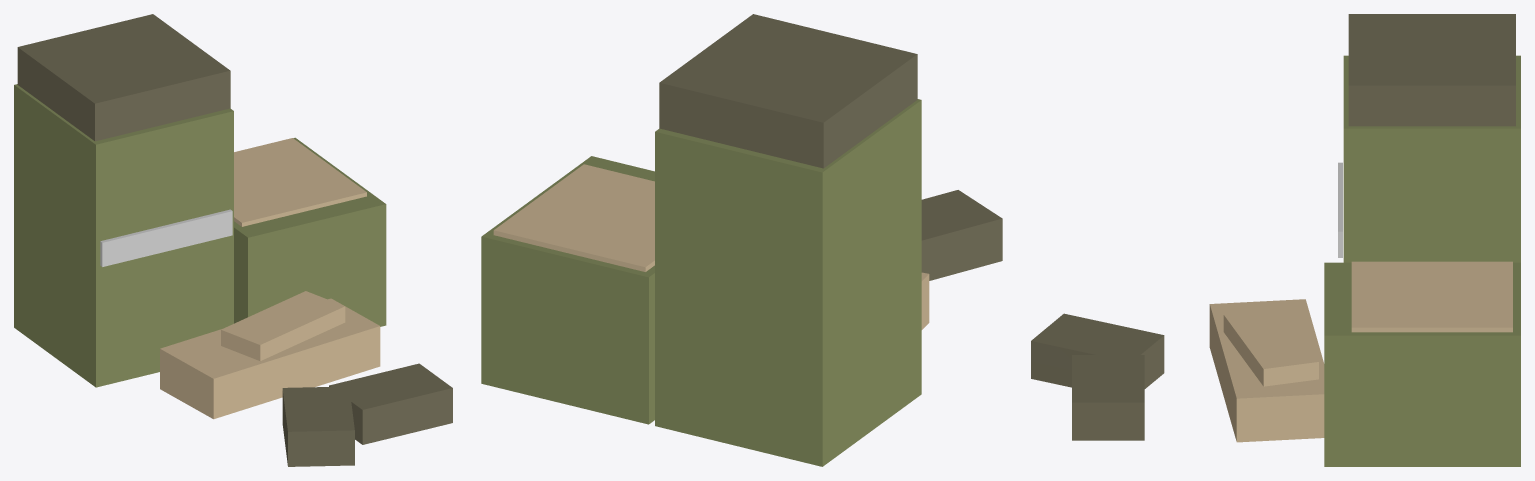
The model's file is SM_HescoCorto2_v3_RemateSacos_e1_Danado_LOD1.fbx.
3 renders of one model, left to right at view 1: azimuth 30°, elevation 25°; view 2: azimuth 150°, elevation 25°; view 3: azimuth 270°, elevation 25°, orthographic. The views are drawn at different scales.
Visible parts, largest first — view 1: SM_hesco_piezas_v73_LOD1; view 2: SM_hesco_piezas_v73_LOD1; view 3: SM_hesco_piezas_v73_LOD1.
Boxes of the visible parts, x1=… form: SM_hesco_piezas_v73_LOD1: x1=14, y1=14, x2=452, y2=466; SM_hesco_piezas_v73_LOD1: x1=481, y1=14, x2=1002, y2=466; SM_hesco_piezas_v73_LOD1: x1=1031, y1=14, x2=1520, y2=466.
Size of the model in its own units: 2.18 by 2.09 by 3.04.
